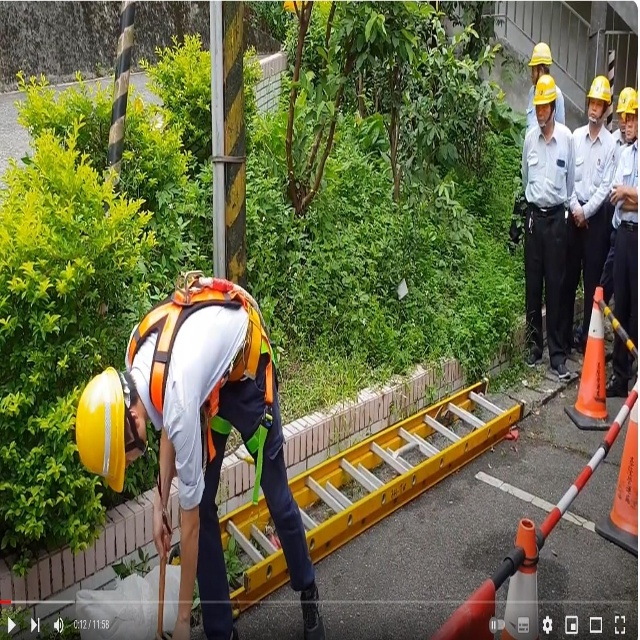Arnes_seguridad: (127, 268, 284, 512)
